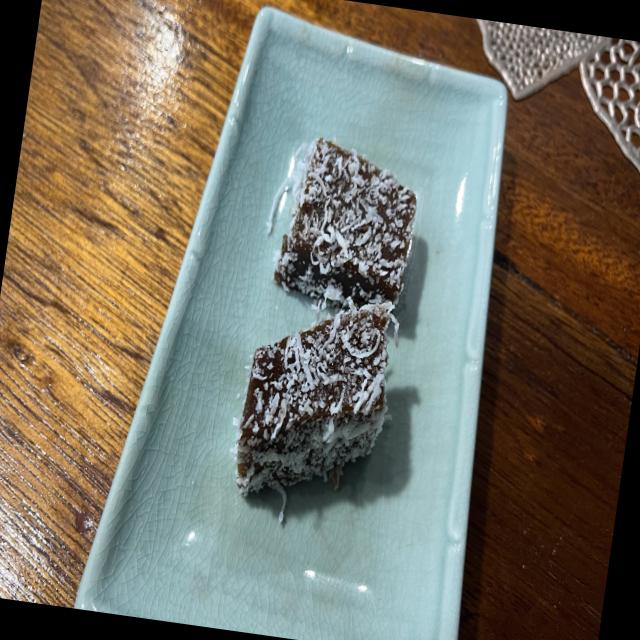kaswi: (236, 302, 393, 521), (274, 138, 417, 306)
